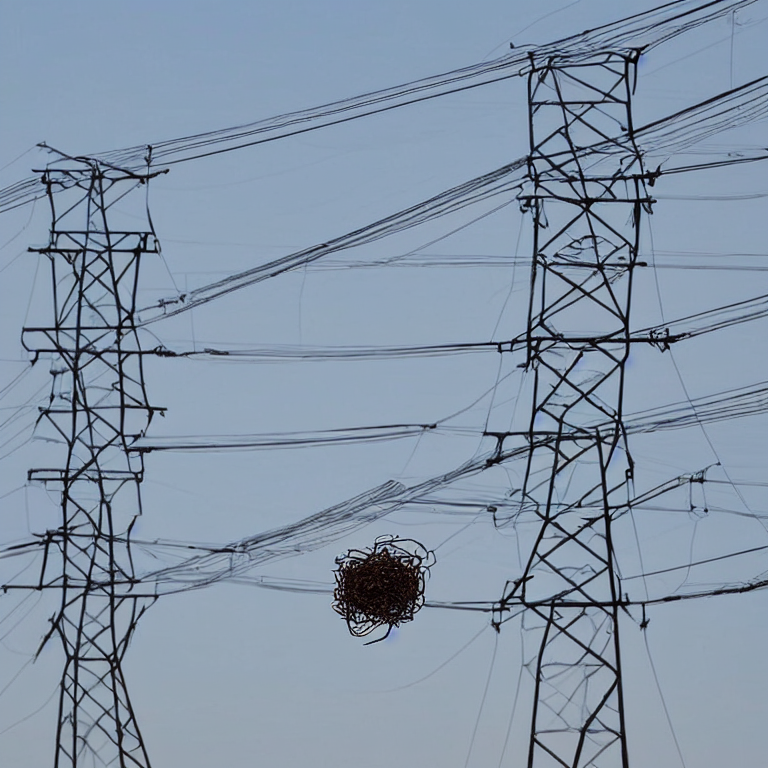nest: (336, 547, 420, 629)
